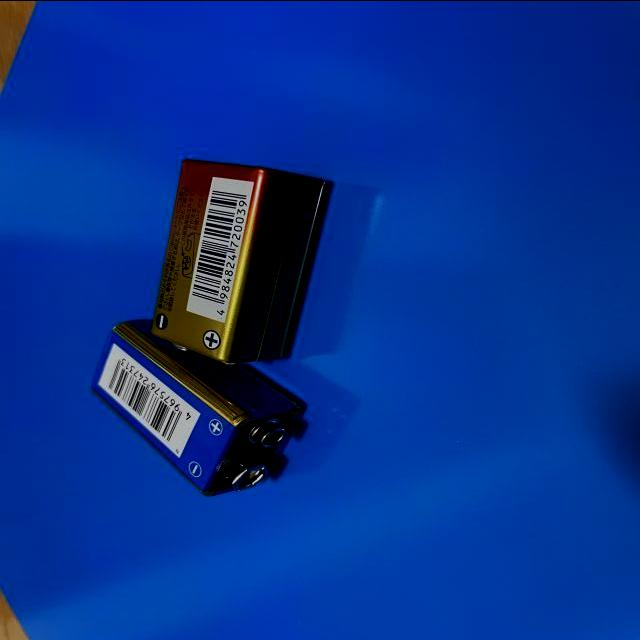9V: (87, 318, 304, 496), (150, 158, 331, 365)
